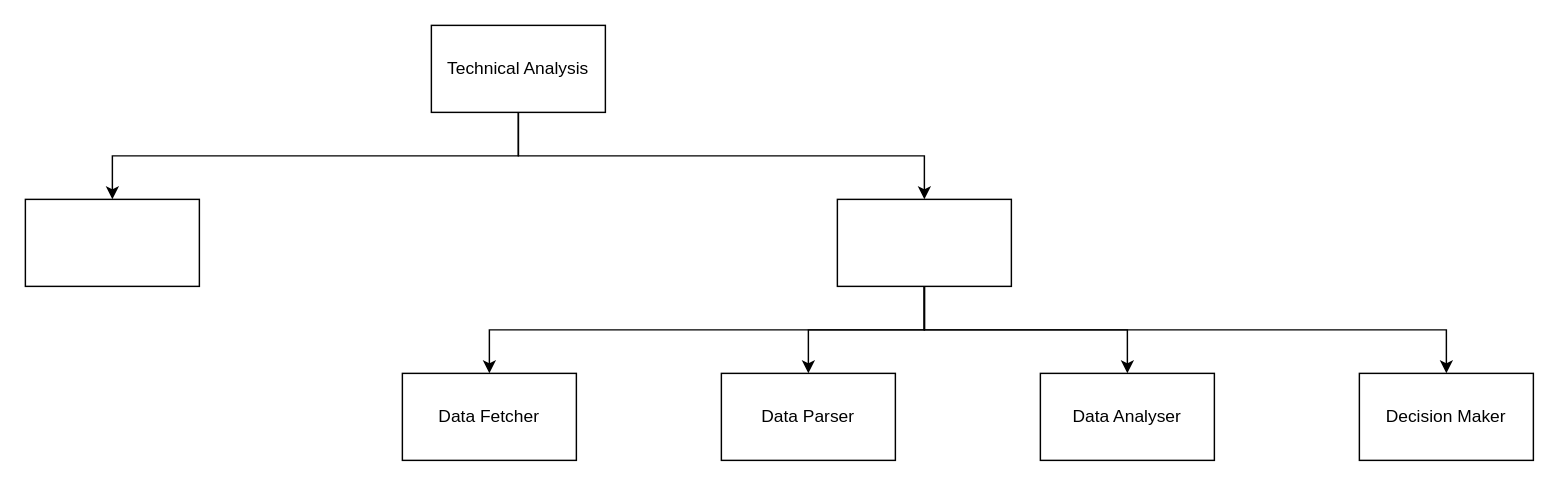
This 1559x486 diagram has some shape labels left out. The centre of each missing label's shape, as x and y in pixels:
Backend: (923,242)
Frontend: (111,242)
